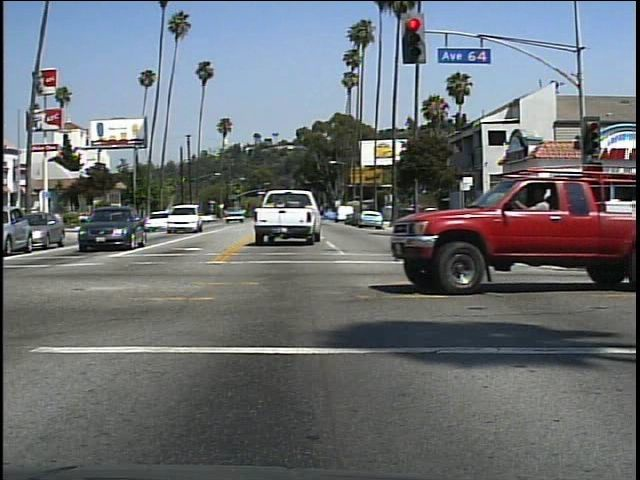person: (524, 180, 564, 299), (477, 198, 503, 236)
